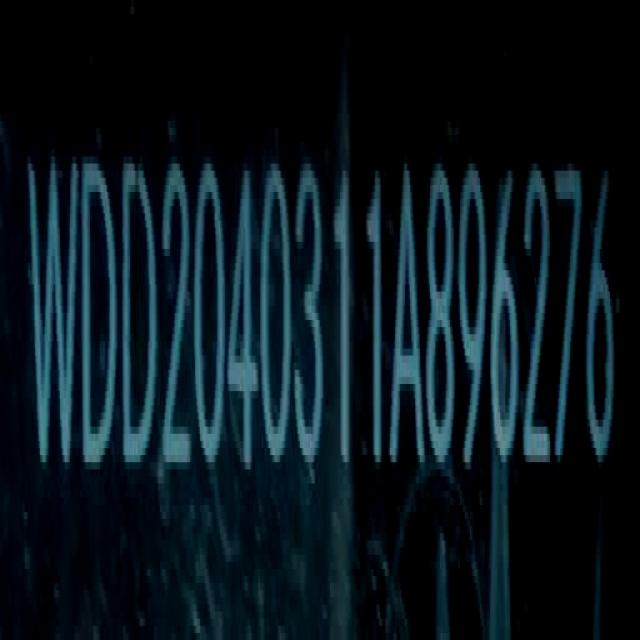0: (258, 156, 292, 472), (197, 154, 229, 476)
1: (334, 162, 354, 476), (366, 164, 386, 475)
2: (161, 158, 194, 478), (522, 161, 552, 477)
3: (294, 153, 325, 471)
4: (227, 154, 260, 474)
6: (588, 161, 622, 464), (491, 163, 521, 478)
7: (552, 158, 584, 474)
8: (428, 159, 458, 478)
9: (456, 164, 487, 484)
A: (391, 160, 426, 477)
D: (81, 153, 122, 480), (120, 150, 159, 477)
W: (25, 158, 82, 477)
